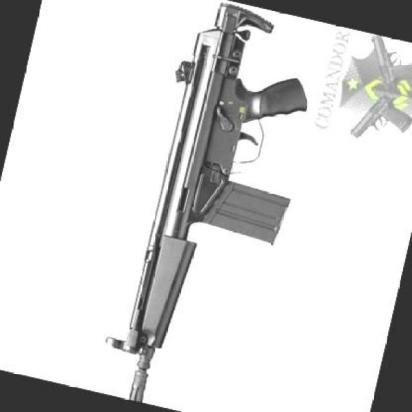Gun: (105, 3, 308, 404)
